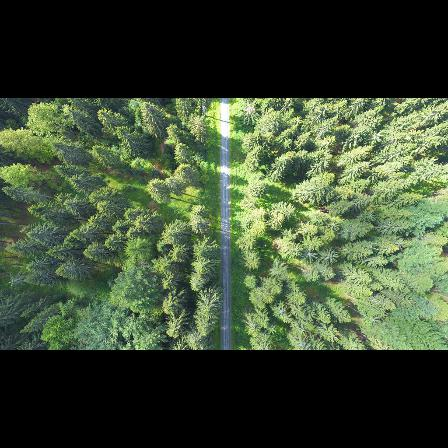Sick: (301, 246, 318, 262)
